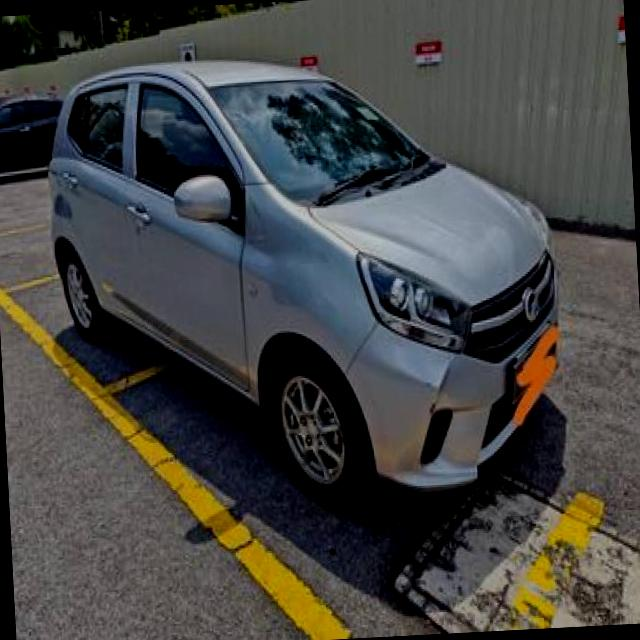PeroduaAxia: (39, 38, 570, 520)
